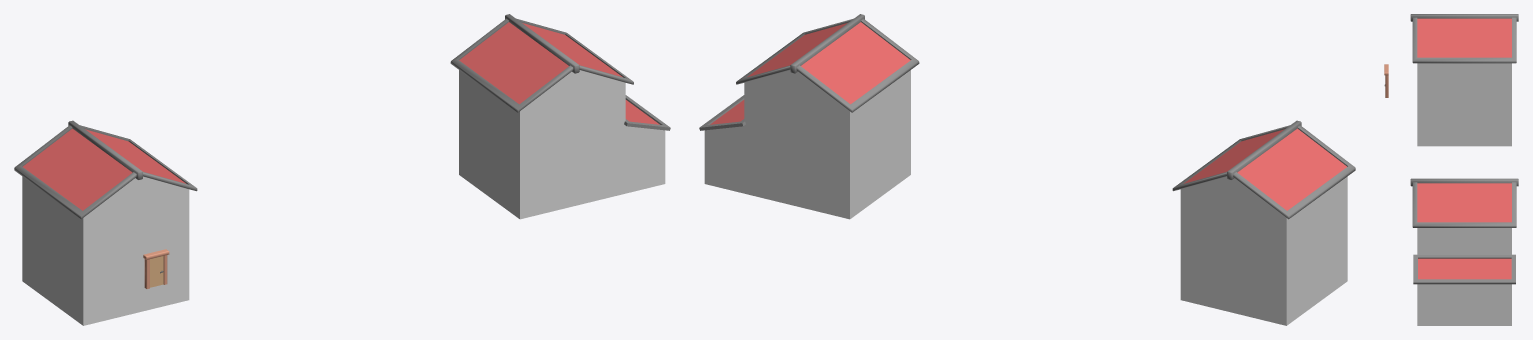
File: Houses.fbx
The picture shows the model from 3 angles, left to right: view 1: azimuth 30°, elevation 25°; view 2: azimuth 150°, elevation 25°; view 3: azimuth 270°, elevation 25°; orthographic projection. The views are drawn at different scales.
Visible parts, largest first — view 1: Plane.001, Plane, Cube; view 2: Plane.001, Plane; view 3: Plane.001, Plane, Cube.
Part boxes in pixels (x1,y1,x2,y2): Plane.001: (450, 14, 670, 219); Plane: (14, 120, 197, 325); Cube: (143, 249, 169, 288); Plane.001: (699, 14, 919, 219); Plane: (1172, 120, 1355, 325); Plane.001: (1410, 178, 1518, 325); Plane: (1410, 14, 1518, 146); Cube: (1384, 64, 1388, 97).
Size of the model in its own units: 4460 by 1043 by 1140.
